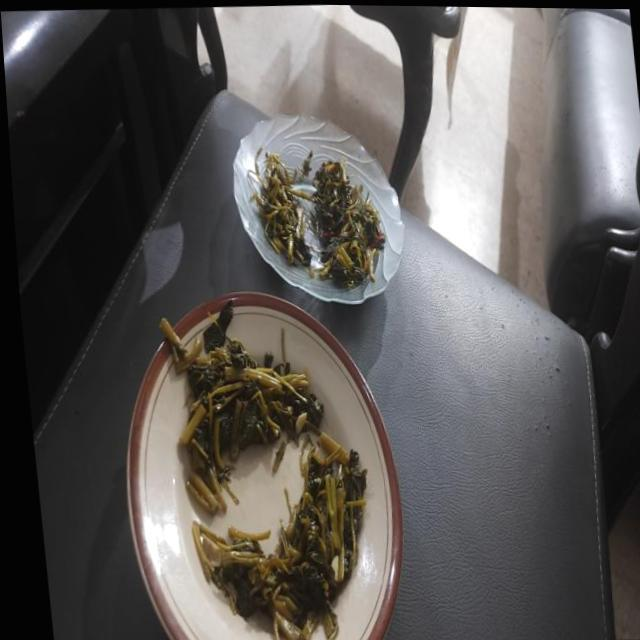tumis_kangkung: (192, 433, 367, 640), (160, 300, 323, 512), (312, 157, 385, 289), (247, 147, 311, 266)
